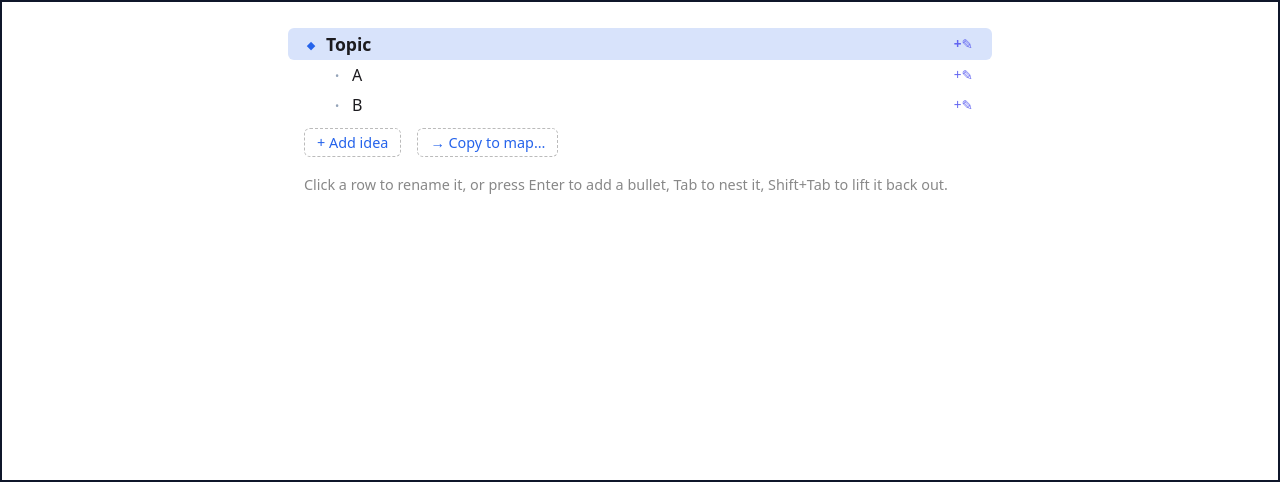
Test: BrainstormOutliner — focus ownership (#5, Batch 16) › blur-committing a rename returns focus to the outliner wrapper
Click the list item with test id "outliner-row-a" at (337, 75), box [288,60,992,90]
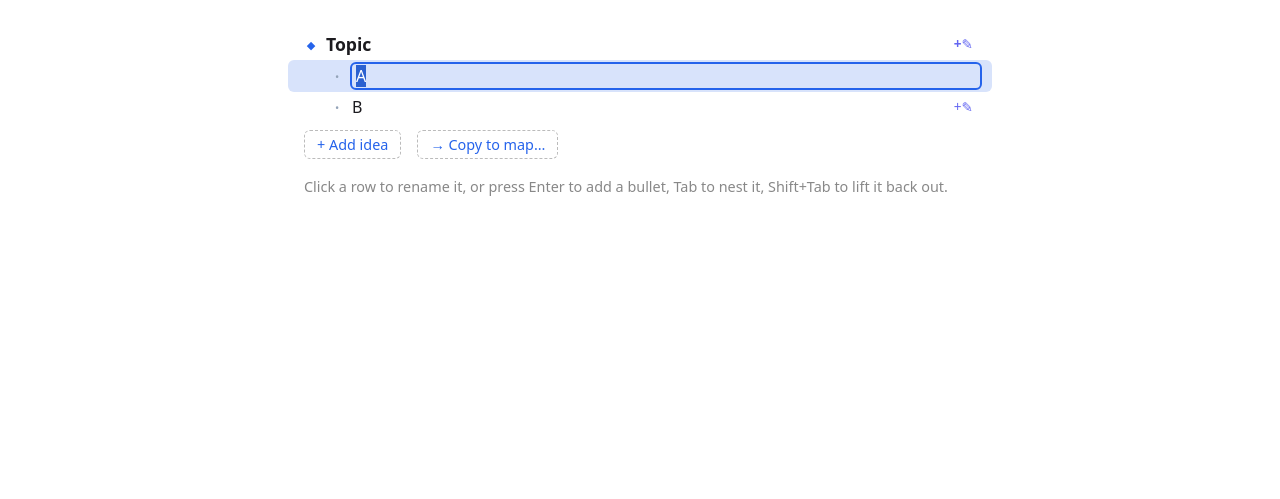
Replace the text in the field showing "A" with "Blurred" at (666, 76), box [352,64,980,88]
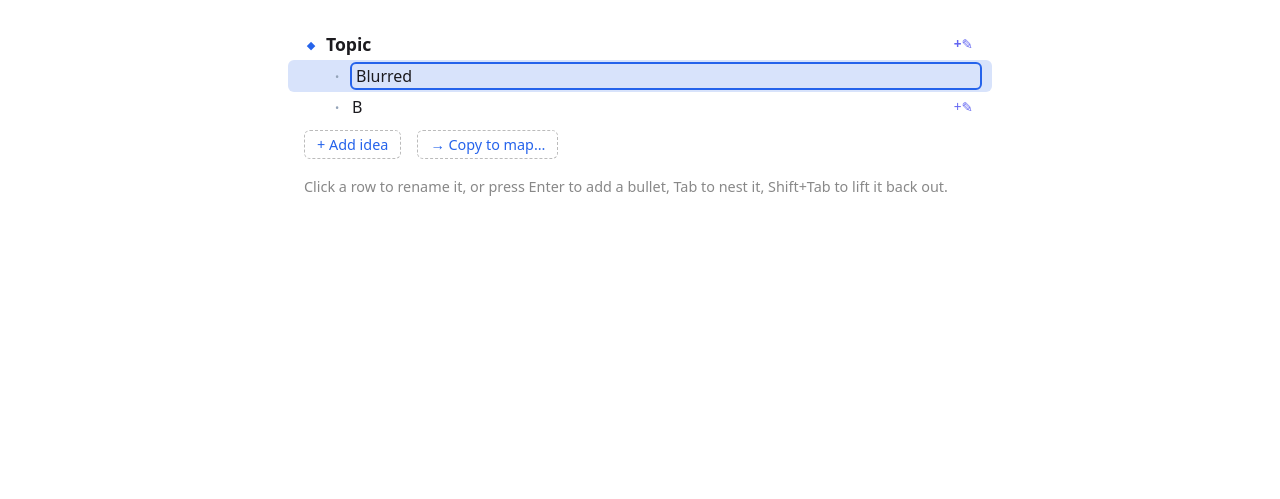
Leave the field showing "A", box [352,64,980,88]
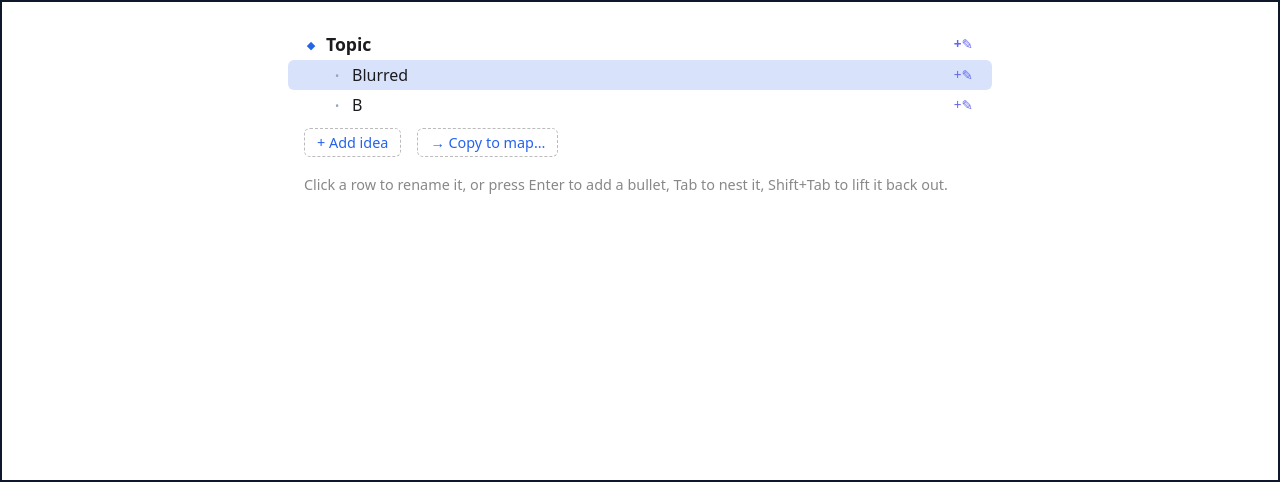
Now the text "Blurred" is shown, box [352,64,408,86]
